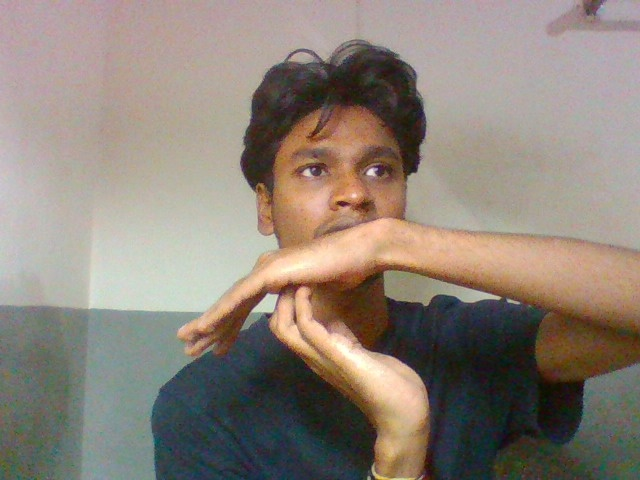J: (161, 228, 465, 446)
